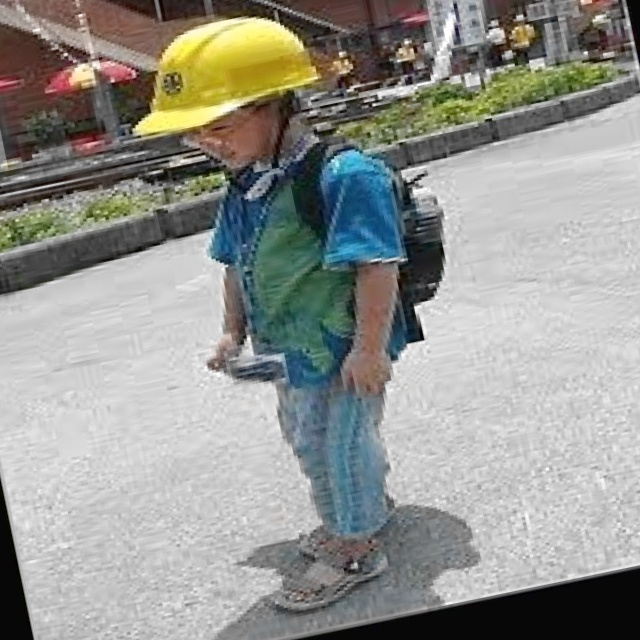Con_Casco: (126, 0, 330, 183)
